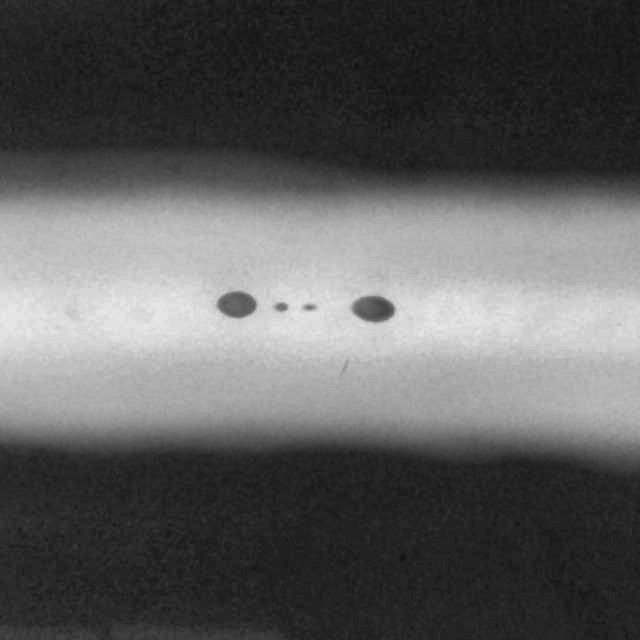Pore: (340, 280, 402, 333), (206, 274, 260, 332), (300, 295, 321, 318), (269, 298, 291, 316)
